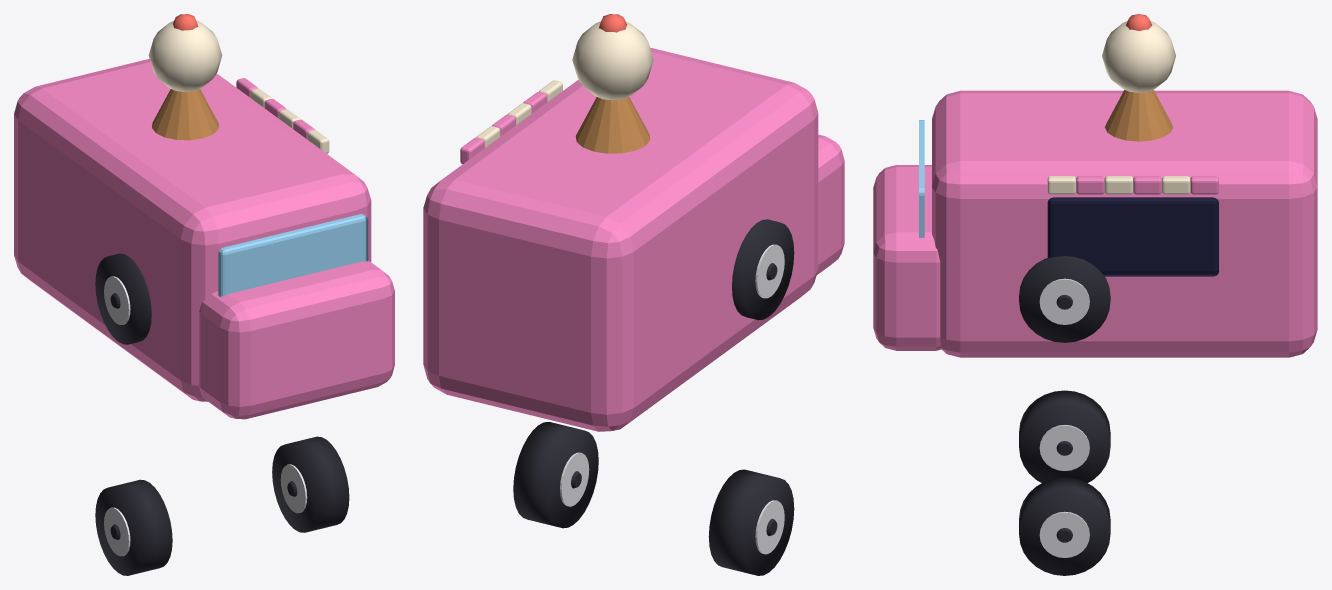
Rendered from Car_IceCream.fbx.
The picture shows the model from 3 angles, left to right: view 1: azimuth 30°, elevation 25°; view 2: azimuth 150°, elevation 25°; view 3: azimuth 270°, elevation 25°; orthographic projection. The views are drawn at different scales.
Visible parts, largest first — view 1: Car_IceCream, Wheel_FR, Wheel_FL, Wheel_RL; view 2: Car_IceCream, Wheel_FR, Wheel_FL, Wheel_RL; view 3: Car_IceCream, Wheel_FR, Wheel_FL, Wheel_RR.
Part boxes in pixels (x1,y1,x2,y2): Car_IceCream: (14,14,394,419); Wheel_FR: (272,436,349,532); Wheel_FL: (95,479,172,575); Wheel_RL: (95,253,151,344); Car_IceCream: (423,14,844,431); Wheel_FR: (513,422,598,528); Wheel_FL: (708,469,794,575); Wheel_RL: (732,219,794,320); Car_IceCream: (873,14,1317,357); Wheel_FR: (1019,477,1110,575); Wheel_FL: (1019,390,1110,482); Wheel_RR: (1019,256,1110,342).
Size of the model in its own units: 0.8838 by 1.97 by 1.56.
